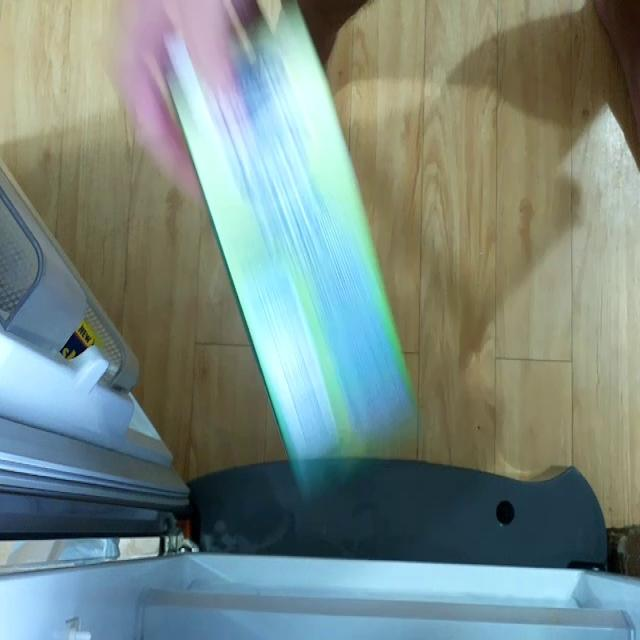milk: (168, 29, 424, 478)
